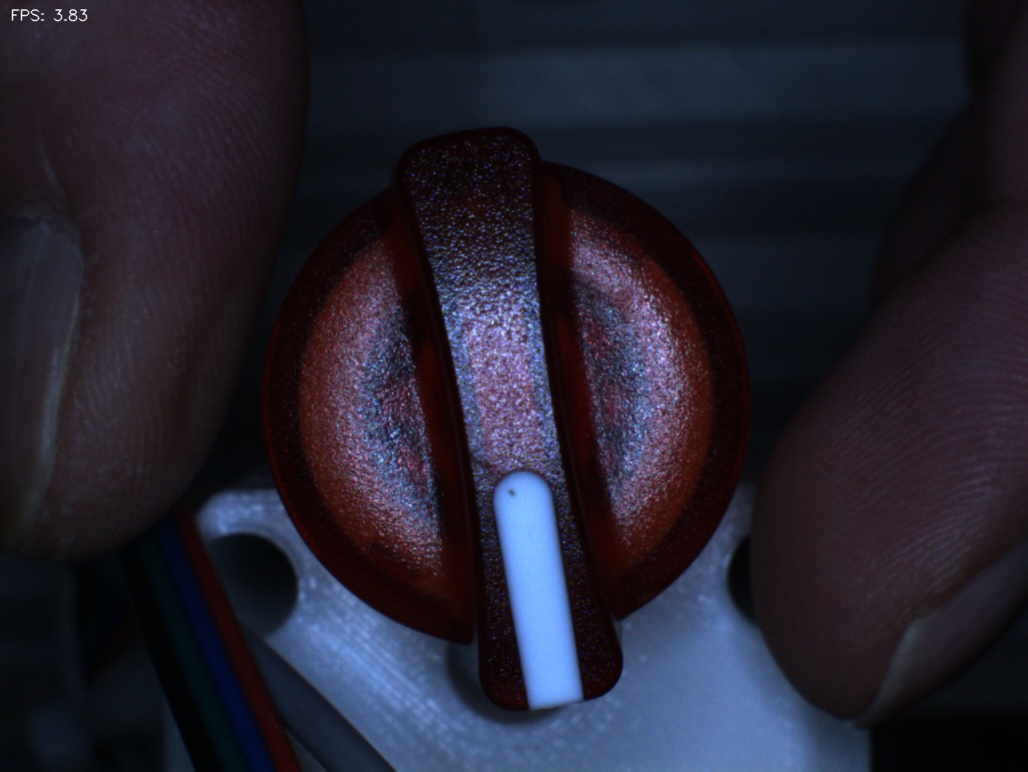PointNoir: (474, 457, 543, 526)
